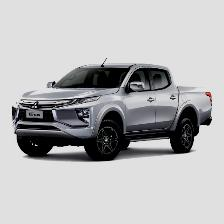NON-EV: (14, 59, 214, 162)
